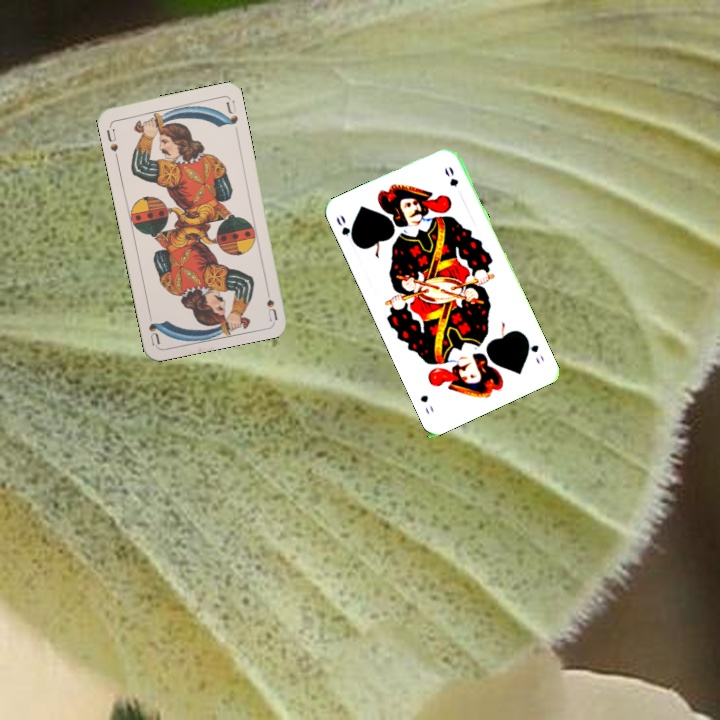GO: (332, 211, 359, 248), (521, 333, 547, 367)
SU: (102, 125, 121, 161), (263, 295, 279, 322)
